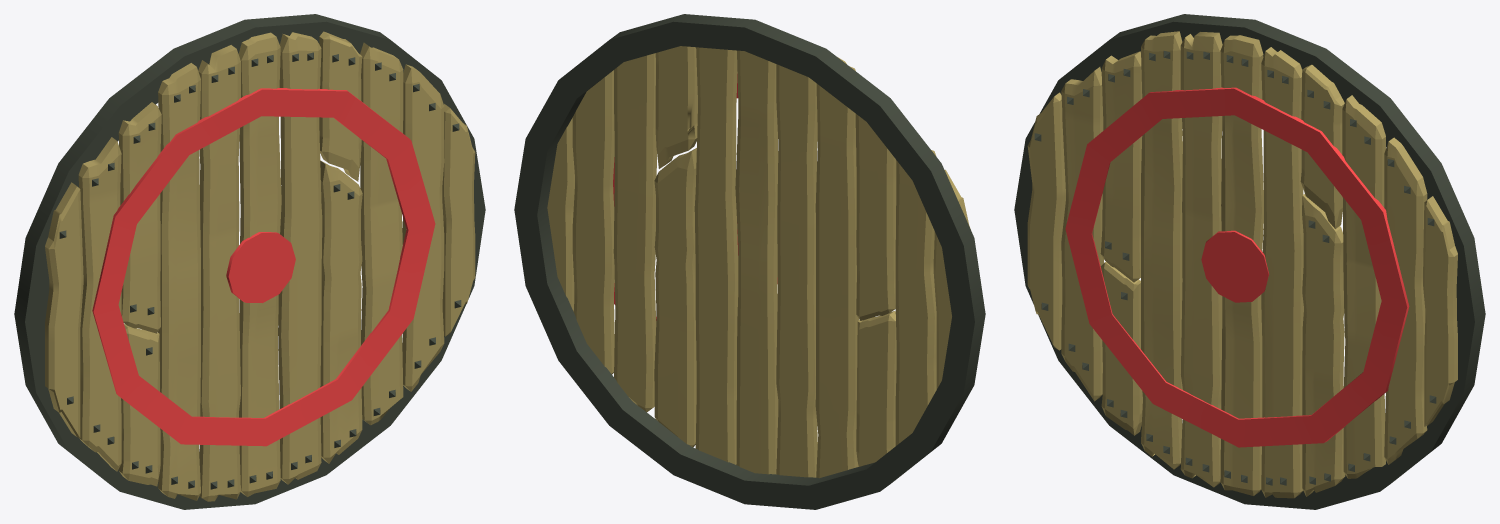
Rendered from Mesh_Tarjet_1.fbx.
3 views of the same model, side by side, from view 1: azimuth 30°, elevation 25°; view 2: azimuth 150°, elevation 25°; view 3: azimuth 330°, elevation 25° (orthographic).
Parts seen in each view (by area): view 1: polySurface3404; view 2: polySurface3404; view 3: polySurface3404.
Boxes of the visible parts, x1,y1,x2,y2 form: polySurface3404: (14, 14, 485, 509); polySurface3404: (514, 14, 985, 509); polySurface3404: (1014, 14, 1485, 509).
Bounding box in the file's own units: 15.86 × 201 × 198.
